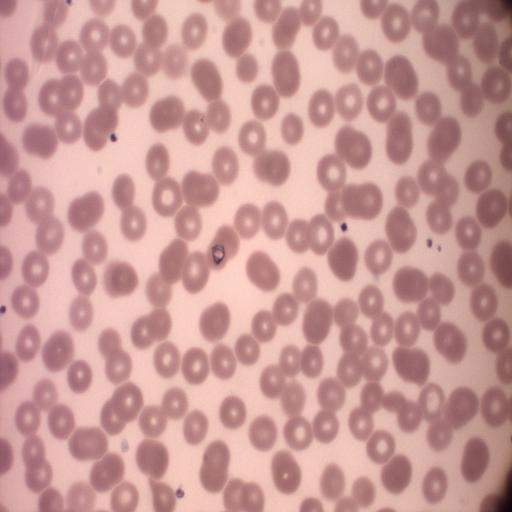Infected: (208, 227, 239, 268)
Uninfected: (22, 438, 54, 490), (198, 443, 231, 493), (339, 183, 383, 219), (334, 127, 373, 167), (66, 191, 105, 231), (82, 107, 118, 150), (383, 56, 419, 99), (131, 310, 171, 348), (426, 117, 462, 159), (423, 26, 459, 67), (391, 346, 430, 383), (89, 452, 125, 492), (385, 208, 419, 250), (135, 440, 171, 479), (384, 115, 415, 160), (270, 452, 303, 494), (244, 251, 280, 289), (181, 171, 220, 206), (302, 299, 333, 343), (42, 331, 76, 371), (191, 59, 225, 99), (460, 437, 490, 482), (149, 95, 186, 131), (21, 123, 59, 158), (223, 478, 263, 511), (157, 241, 189, 282), (392, 267, 428, 303), (445, 387, 477, 427), (68, 427, 105, 461), (199, 302, 232, 340), (328, 239, 357, 282), (271, 51, 301, 92), (418, 159, 453, 194), (51, 76, 85, 112), (475, 188, 507, 226), (222, 19, 254, 56), (271, 11, 303, 48), (257, 151, 291, 185), (107, 261, 140, 296), (433, 322, 465, 358), (308, 214, 336, 254), (152, 179, 183, 215), (381, 456, 412, 492), (366, 84, 398, 118), (480, 69, 510, 105), (142, 273, 172, 308), (79, 21, 110, 54), (26, 187, 56, 221), (15, 324, 43, 360), (55, 42, 86, 74), (316, 155, 346, 188), (11, 284, 41, 317), (481, 387, 508, 423), (133, 42, 163, 74), (248, 417, 278, 449), (452, 4, 482, 36), (175, 205, 204, 238), (35, 219, 64, 252), (356, 49, 385, 82), (332, 36, 361, 69), (182, 349, 211, 382), (21, 252, 50, 285), (113, 386, 142, 419), (204, 99, 232, 133), (153, 342, 181, 376), (319, 465, 347, 499), (490, 242, 512, 285), (120, 206, 146, 242), (283, 417, 313, 448), (79, 51, 108, 83), (219, 397, 248, 429), (251, 85, 280, 117), (427, 421, 456, 453), (181, 256, 209, 289), (47, 406, 75, 439), (183, 409, 211, 442), (262, 201, 289, 235), (366, 432, 396, 462), (364, 241, 393, 272), (238, 121, 267, 152), (426, 201, 455, 232), (382, 7, 411, 38), (410, 1, 439, 32), (210, 346, 238, 378), (361, 346, 389, 378), (457, 254, 485, 286), (141, 15, 169, 47), (212, 148, 239, 181), (15, 400, 41, 434), (139, 406, 168, 436), (285, 220, 313, 251), (234, 205, 262, 236), (335, 84, 363, 115), (394, 313, 422, 344), (183, 111, 211, 142), (109, 23, 137, 54), (415, 91, 443, 122), (181, 15, 209, 46), (292, 268, 319, 300), (483, 318, 510, 350), (349, 408, 376, 440), (419, 384, 445, 417), (7, 171, 33, 204), (55, 114, 83, 144), (358, 285, 386, 315), (465, 162, 493, 192), (71, 262, 98, 293), (308, 92, 335, 123), (272, 294, 299, 325), (455, 216, 482, 247), (470, 285, 497, 316), (337, 356, 364, 387), (398, 400, 424, 432), (351, 476, 376, 509), (280, 380, 304, 414), (312, 17, 340, 46), (111, 483, 139, 512), (68, 484, 97, 512), (82, 233, 109, 263), (162, 388, 189, 418), (67, 361, 94, 391), (69, 297, 95, 328), (422, 469, 448, 500), (145, 144, 170, 176), (4, 88, 29, 120), (112, 173, 137, 205), (341, 325, 366, 357), (104, 355, 132, 383), (312, 412, 339, 441), (251, 312, 278, 341), (395, 177, 422, 206), (122, 75, 148, 104), (318, 379, 344, 408), (235, 335, 261, 364), (150, 482, 176, 511), (431, 275, 456, 305), (300, 347, 325, 376), (4, 57, 29, 86), (260, 366, 284, 396), (369, 315, 393, 345), (280, 344, 302, 376), (418, 300, 441, 329), (281, 114, 304, 142), (236, 54, 259, 82), (333, 297, 356, 325), (100, 329, 123, 355), (360, 386, 382, 413)
